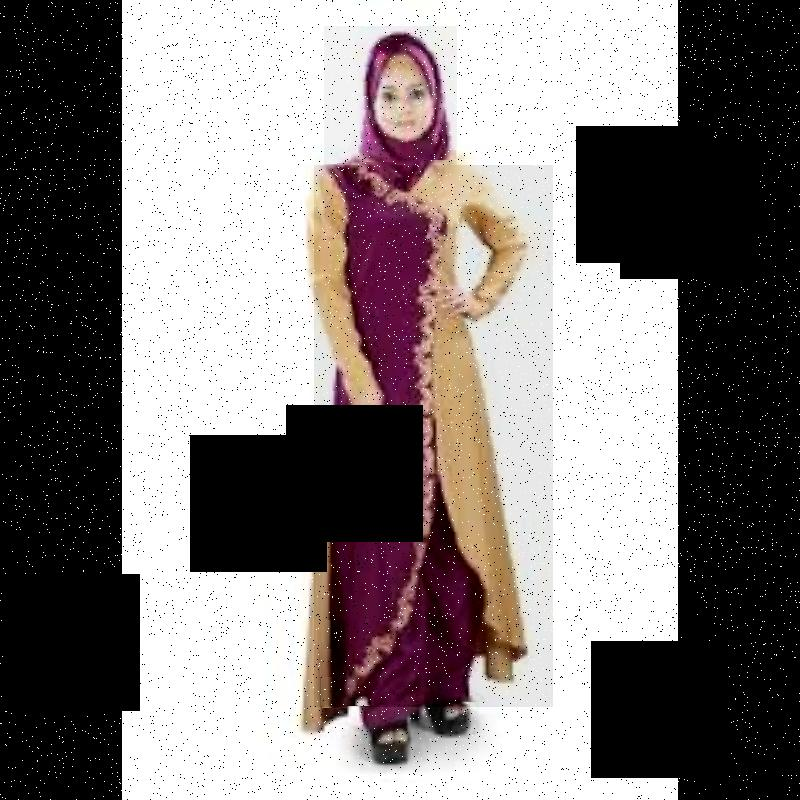Churidaar: (315, 165, 553, 707)
Hijab: (325, 26, 457, 193)
